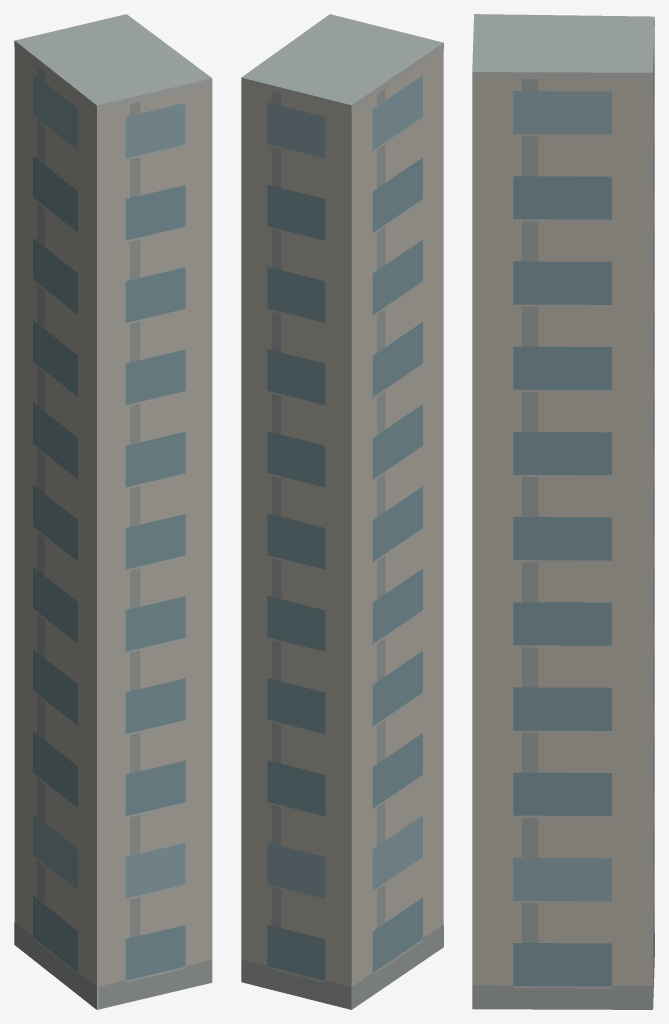
Rendered from survey-upis-32999520.glb.
3 renders of one model, left to right at view 1: azimuth 30°, elevation 25°; view 2: azimuth 150°, elevation 25°; view 3: azimuth 270°, elevation 25°, orthographic. The views are drawn at different scales.
Parts seen in each view (by area): view 1: survey-upis-32999520.tmp; view 2: survey-upis-32999520.tmp; view 3: survey-upis-32999520.tmp.
Boxes of the visible parts, <box> form: survey-upis-32999520.tmp: <box>14,14,212,1009</box>; survey-upis-32999520.tmp: <box>241,14,443,1009</box>; survey-upis-32999520.tmp: <box>472,14,654,1009</box>.
Size of the model in its own units: 4.52 by 33.55 by 5.93.
